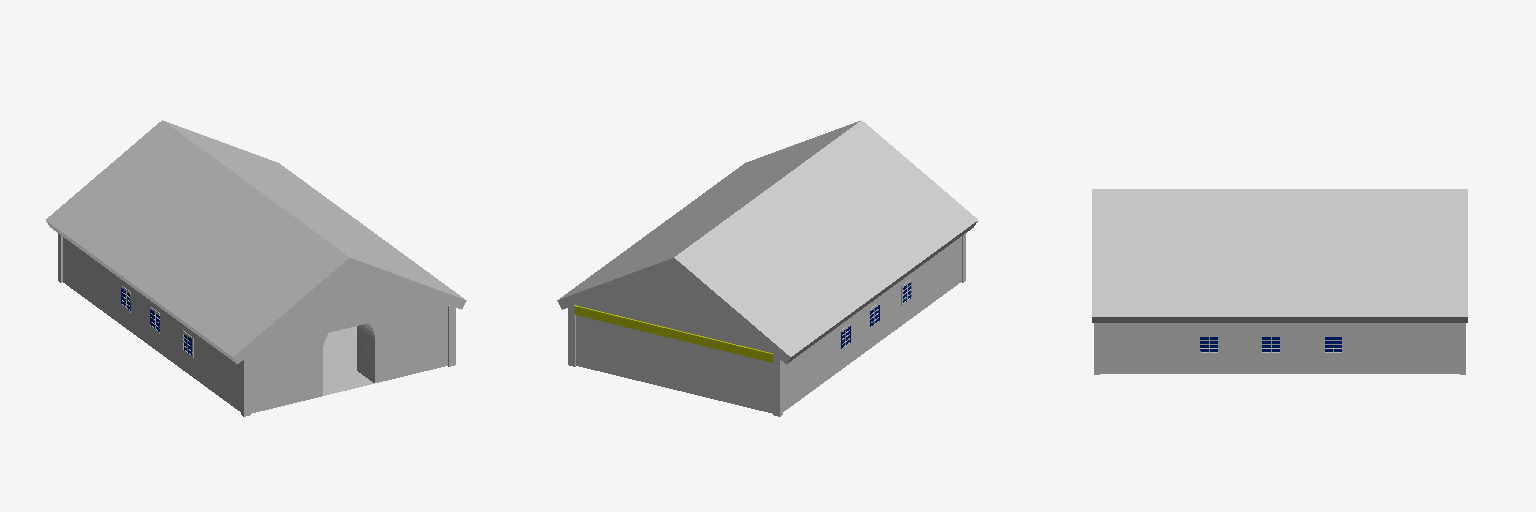
The model's file is townhall.obj.
3 renders of one model, left to right at view 1: azimuth 30°, elevation 25°; view 2: azimuth 150°, elevation 25°; view 3: azimuth 270°, elevation 25°, orthographic.
Visible parts, largest first — view 1: Cube.321_Cube.006; view 2: Cube.321_Cube.006; view 3: Cube.321_Cube.006.
Boxes of the visible parts, box(x1,y1,x2,y2) form: Cube.321_Cube.006: box(46, 120, 466, 416); Cube.321_Cube.006: box(557, 120, 977, 416); Cube.321_Cube.006: box(1092, 189, 1467, 374).
Size of the model in its own units: 16.93 by 9.31 by 23.57.